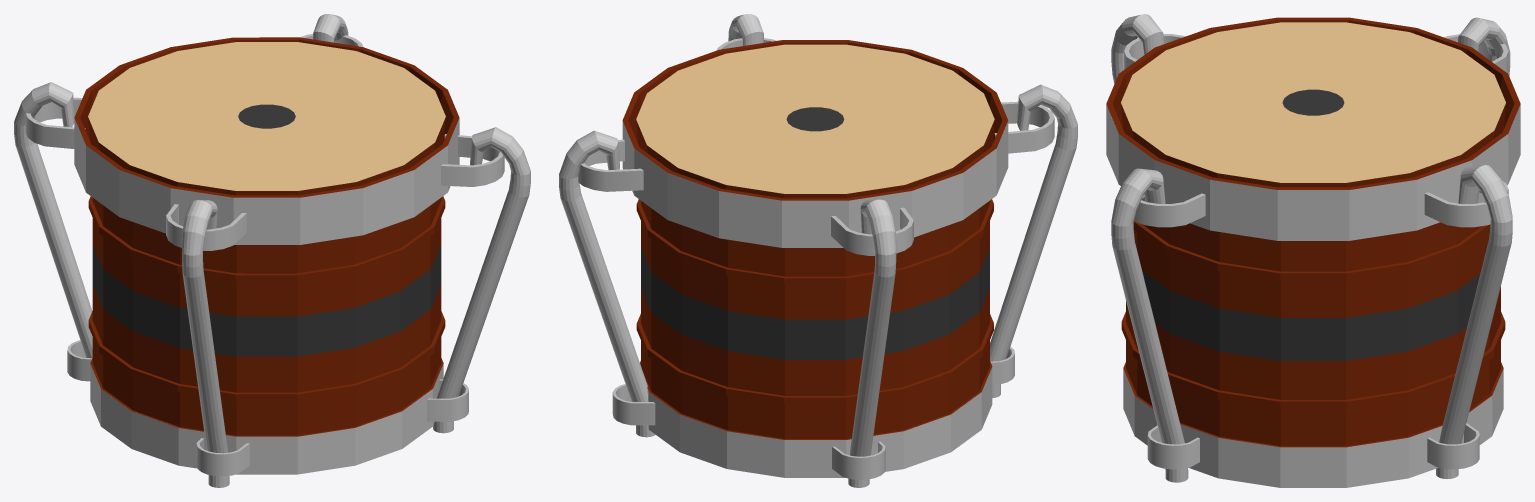
The model's file is 4tAGfJTheb4.glb.
3 renders of one model, left to right at view 1: azimuth 30°, elevation 25°; view 2: azimuth 150°, elevation 25°; view 3: azimuth 270°, elevation 25°, orthographic. The views are drawn at different scales.
Visible parts, largest first — view 1: Cylinder024, Cylinder016; view 2: Cylinder024, Cylinder016; view 3: Cylinder024, Cylinder016.
Part boxes in pixels (bbox=[...]): Cylinder024: bbox=[74, 37, 459, 436]; Cylinder016: bbox=[14, 14, 530, 487]; Cylinder024: bbox=[622, 40, 1008, 439]; Cylinder016: bbox=[559, 14, 1077, 487]; Cylinder024: bbox=[1106, 17, 1520, 447]; Cylinder016: bbox=[1106, 14, 1520, 487].
Size of the model in its own units: 1.19 by 1 by 1.15.
